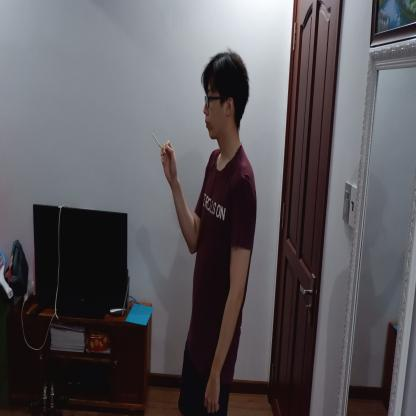cigarette: (152, 132, 162, 150)
person: (161, 48, 258, 415)
